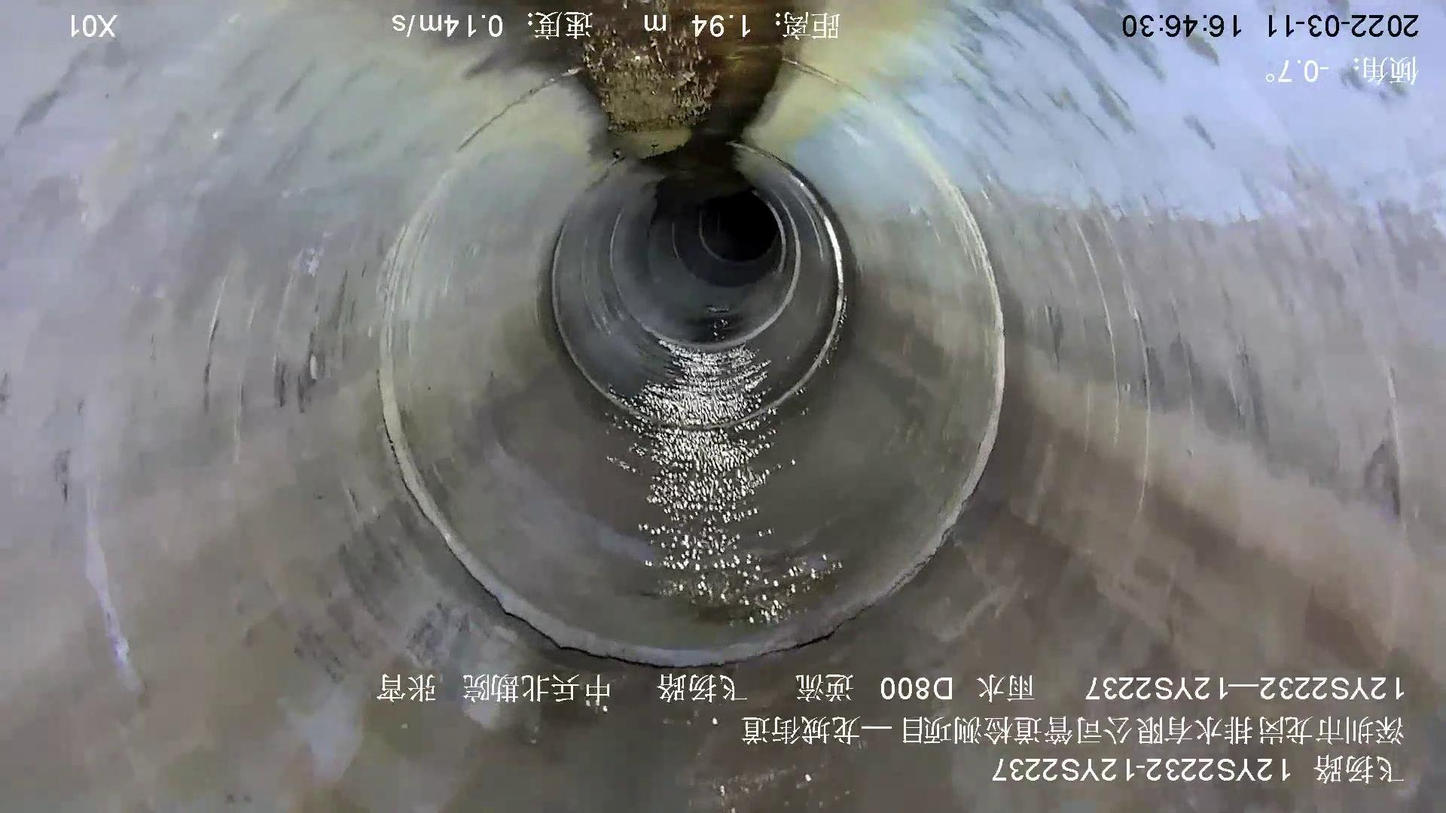CJ: (573, 1, 721, 158)
CKTJ: (378, 169, 1005, 667), (548, 141, 848, 433), (607, 197, 804, 354)
